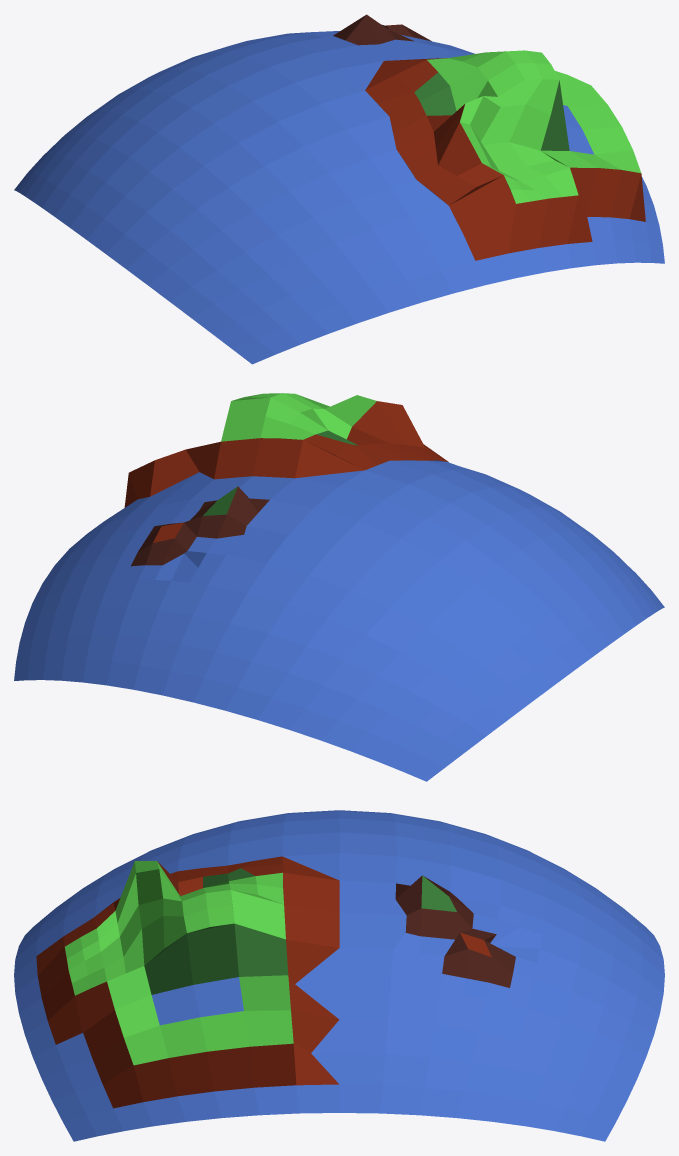
File: CubePart001.fbx
The picture shows the model from 3 angles, top to bottom: view 1: azimuth 30°, elevation 25°; view 2: azimuth 150°, elevation 25°; view 3: azimuth 270°, elevation 25°; orthographic projection. The views are drawn at different scales.
Parts seen in each view (by area): view 1: Cube; view 2: Cube; view 3: Cube.
Part boxes in pixels (x1,y1,x2,y2): Cube: (14, 14, 664, 364); Cube: (14, 393, 664, 781); Cube: (14, 810, 664, 1141).
Size of the model in its own units: 181 by 62.6 by 181.
